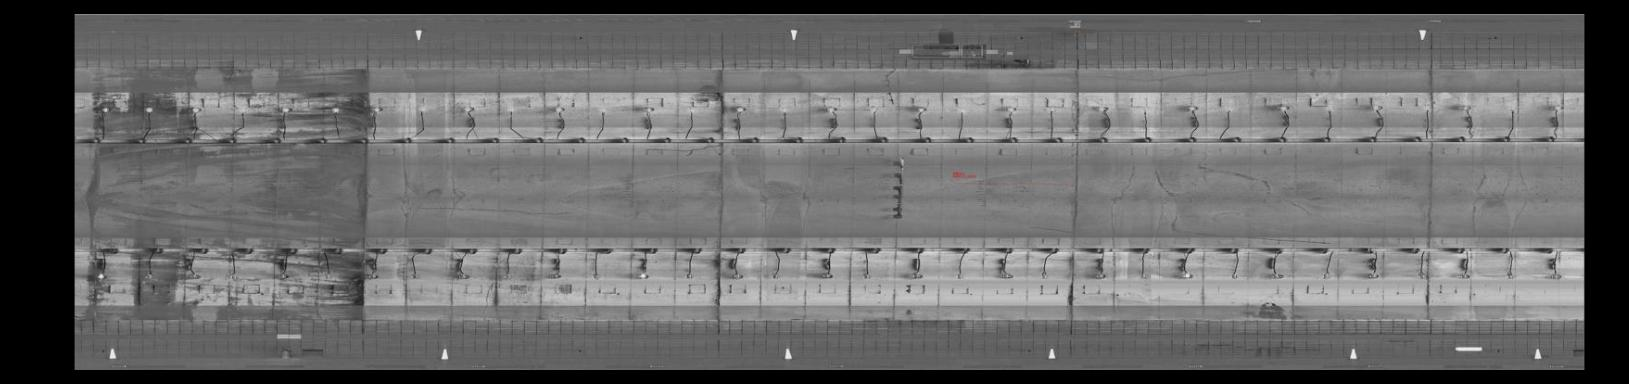light: (993, 268, 1014, 283), (187, 101, 207, 116), (360, 269, 382, 282), (1277, 100, 1296, 115), (1371, 100, 1388, 116), (1184, 101, 1202, 116), (949, 269, 967, 283), (1137, 103, 1156, 116), (461, 103, 481, 116), (277, 103, 297, 116), (94, 269, 113, 282), (906, 270, 929, 281), (273, 270, 294, 282), (1033, 268, 1050, 282), (1043, 103, 1062, 116), (1003, 103, 1024, 114), (731, 103, 751, 115), (1176, 269, 1196, 281), (1460, 101, 1476, 115), (550, 102, 566, 116), (234, 103, 251, 116), (548, 269, 565, 282), (680, 269, 698, 282), (1097, 103, 1116, 115), (913, 103, 932, 115), (415, 102, 433, 114), (451, 270, 470, 282), (856, 270, 875, 282), (141, 102, 157, 116), (139, 270, 161, 280), (1323, 102, 1339, 115), (956, 103, 972, 116), (370, 103, 386, 116), (97, 103, 113, 116), (226, 270, 244, 282), (184, 269, 203, 280), (1415, 268, 1430, 282), (1223, 103, 1239, 115), (684, 103, 700, 115), (1225, 269, 1243, 280), (1269, 270, 1286, 281), (1457, 270, 1474, 281), (1421, 103, 1436, 116), (500, 270, 514, 283), (823, 104, 842, 114), (505, 103, 520, 115), (819, 270, 837, 280), (1317, 270, 1336, 280), (1502, 270, 1518, 282), (1548, 270, 1564, 282), (328, 105, 346, 115), (1505, 103, 1519, 116), (1365, 270, 1381, 281), (405, 272, 424, 281), (635, 271, 651, 281), (1551, 103, 1566, 114), (320, 271, 335, 282), (588, 270, 603, 281), (595, 106, 611, 116), (1093, 270, 1109, 280), (767, 273, 783, 282), (1134, 271, 1151, 280), (641, 103, 656, 113), (731, 270, 746, 280), (869, 103, 880, 115), (779, 105, 792, 116)
